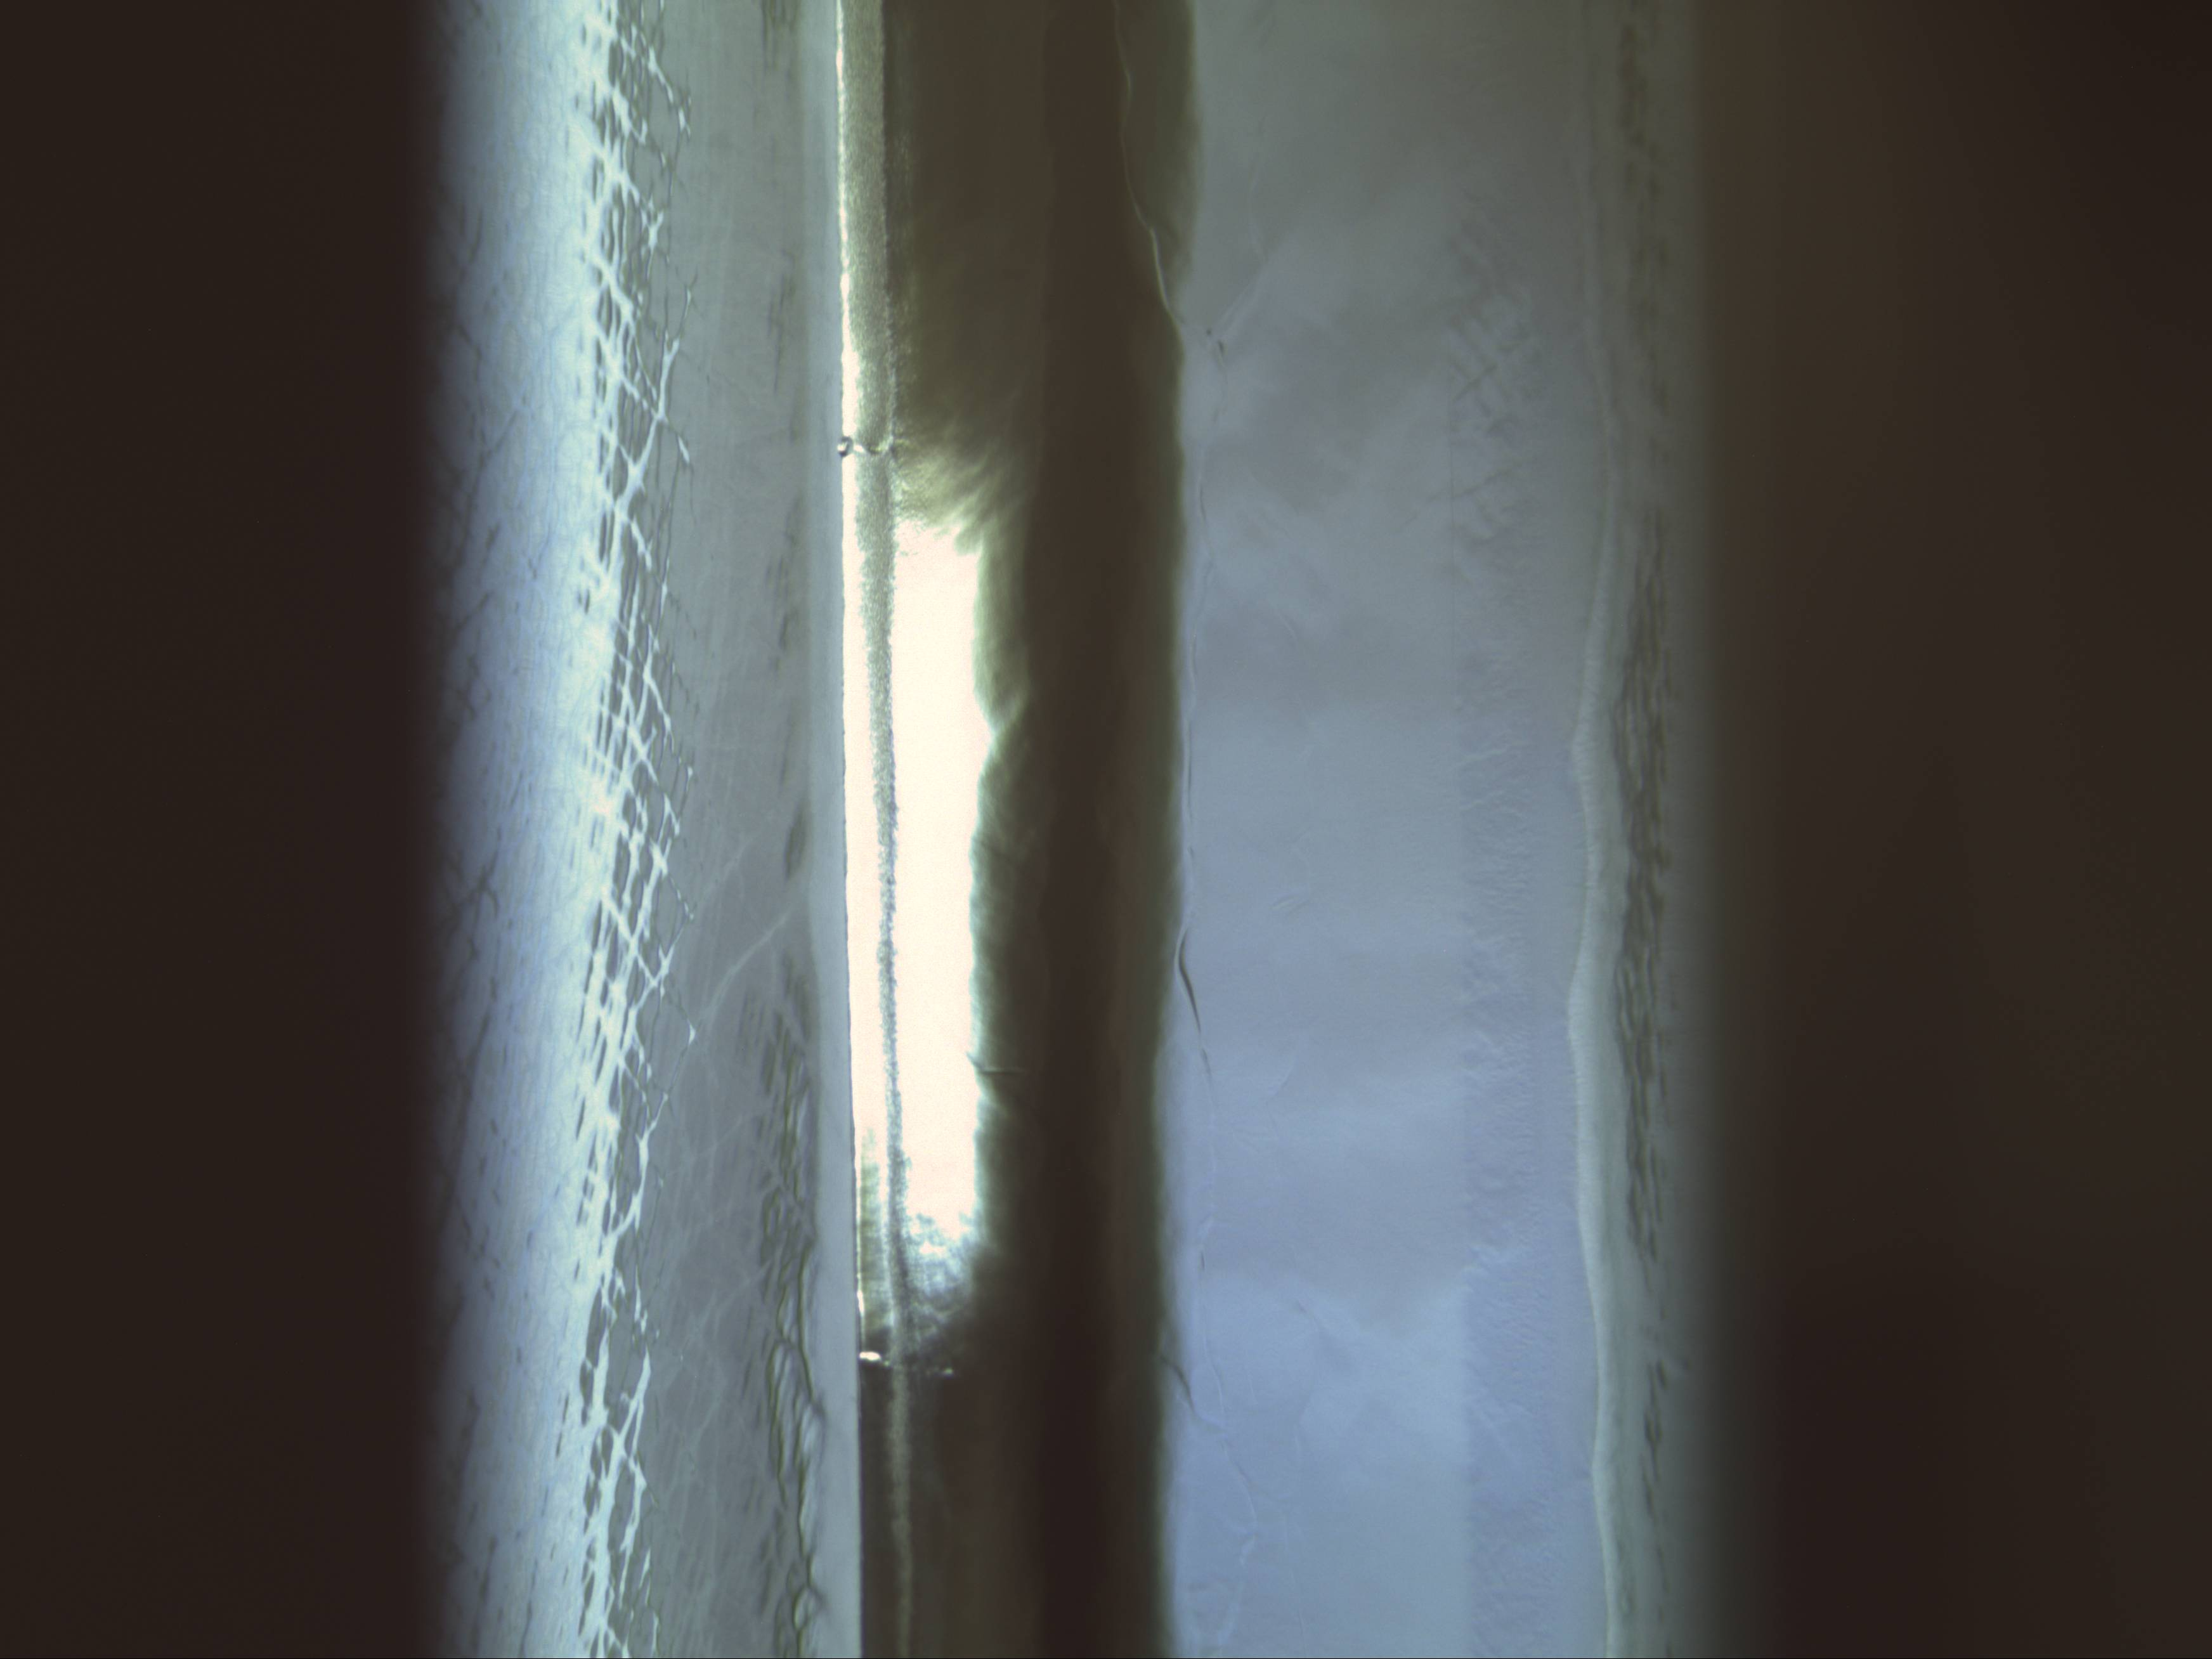defect: (829, 430, 899, 465), (845, 1340, 899, 1377)
